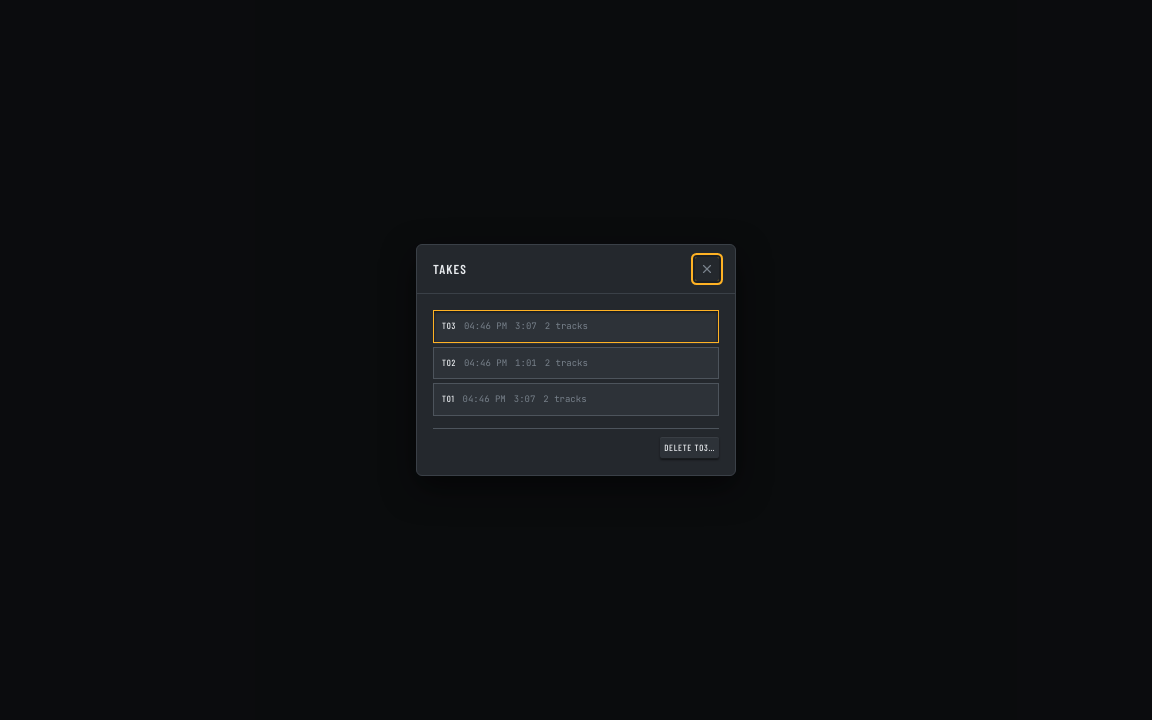
Test: TakeBrowserModal › shows the daemon refusal inline instead of failing silently
Click the option "T01 04:46 PM 3:07 2 tracks".
click(576, 400)  # box [433, 383, 719, 416]
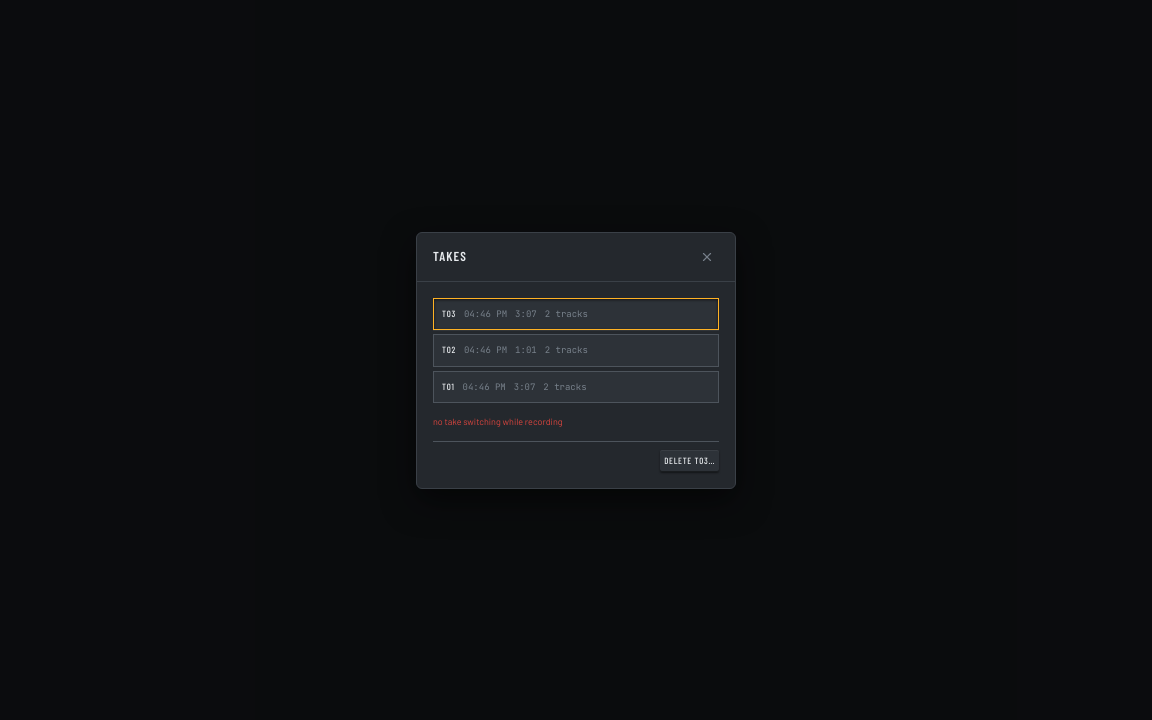
Expected: the text "no take switching while recording" is shown, [433, 416, 563, 427]
